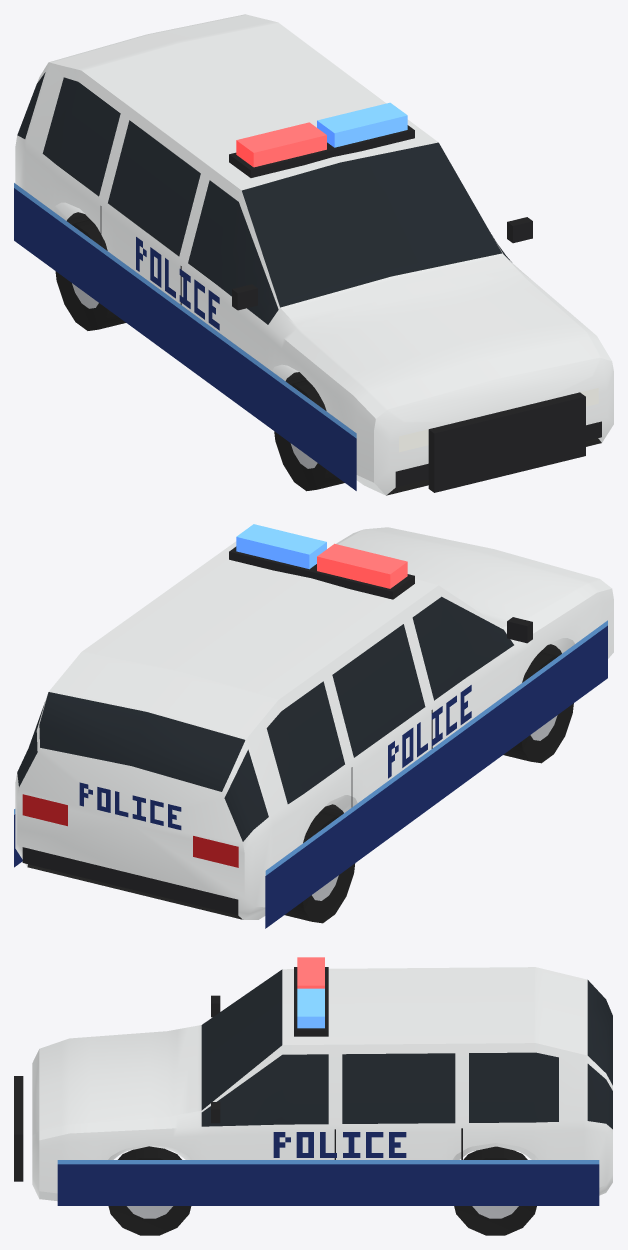
The model's file is seattle_police.glb.
The picture shows the model from 3 angles, top to bottom: view 1: azimuth 30°, elevation 25°; view 2: azimuth 150°, elevation 25°; view 3: azimuth 270°, elevation 25°; orthographic projection. The views are drawn at different scales.
Visible parts, largest first — view 1: seattle_police; view 2: seattle_police; view 3: seattle_police.
Boxes of the visible parts, box(x1,y1,x2,y2) form: seattle_police: box(14, 14, 613, 495); seattle_police: box(14, 524, 613, 928); seattle_police: box(14, 957, 612, 1235).
Bounding box in the file's own units: 2.34 × 1.92 × 5.21.
Materials: 3 (1 with a texture image).
